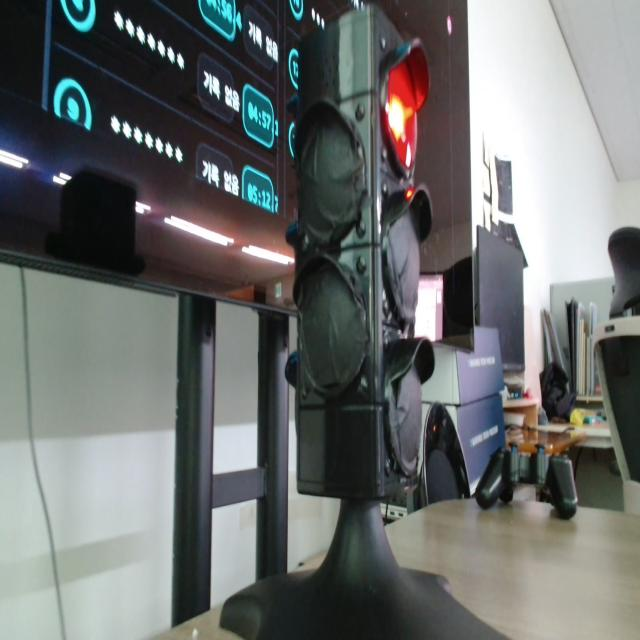red_light: (381, 41, 429, 177), (386, 62, 418, 169), (406, 188, 413, 200)
